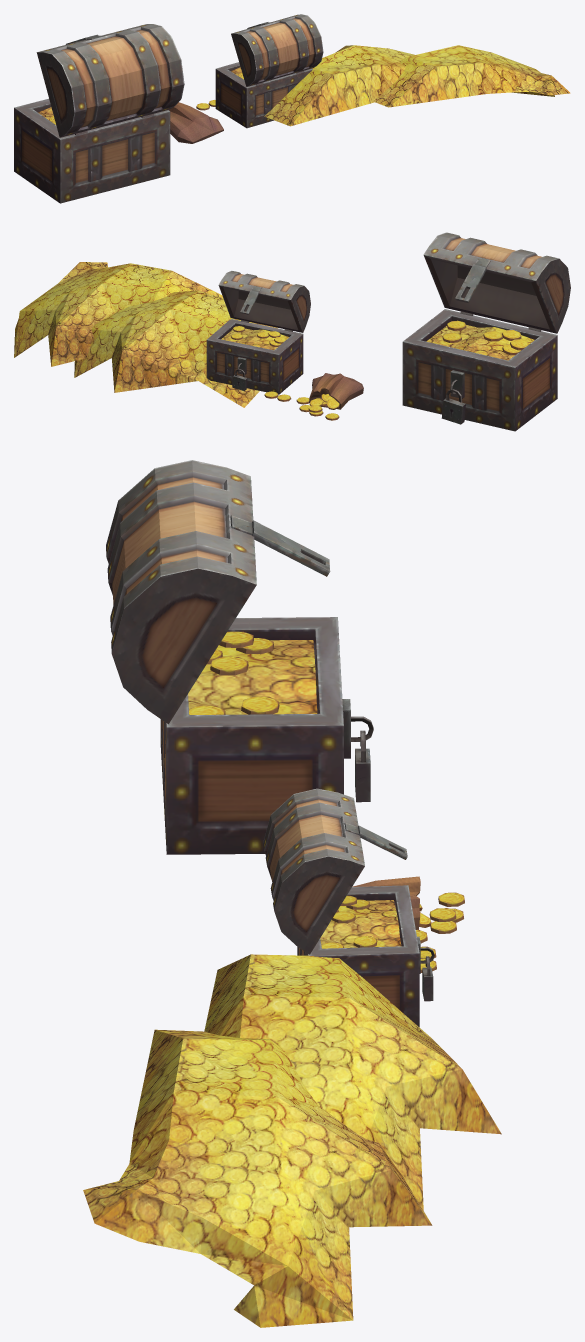
The model's file is Area_10_15.fbx.
3 views of the same model, one above another, from view 1: azimuth 30°, elevation 25°; view 2: azimuth 150°, elevation 25°; view 3: azimuth 270°, elevation 25° (orthographic). The views are drawn at different scales.
Parts seen in each view (by area): view 1: Area_10_15; view 2: Area_10_15; view 3: Area_10_15.
Boxes of the visible parts, box(x1,y1,x2,y2) form: Area_10_15: box(14, 14, 570, 203); Area_10_15: box(14, 232, 570, 431); Area_10_15: box(83, 460, 501, 1327).
Bounding box in the file's own units: 1177 × 408 × 411.
